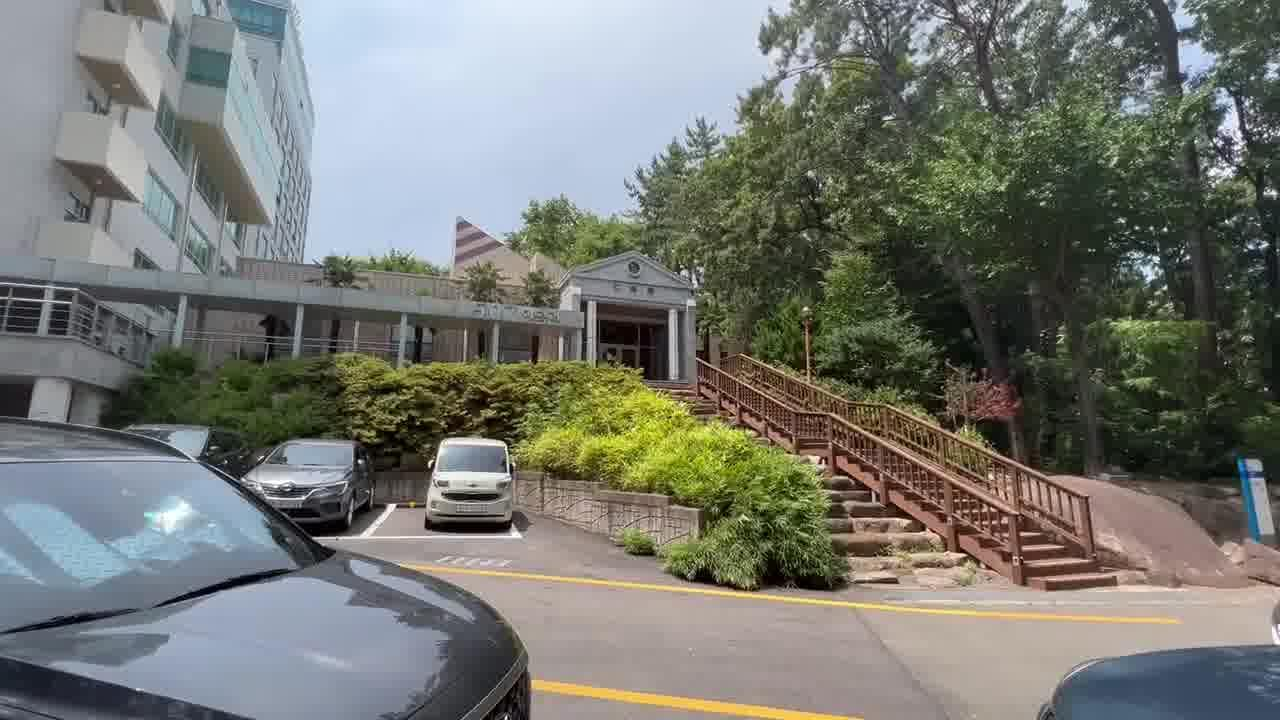building: (250, 235, 720, 384)
